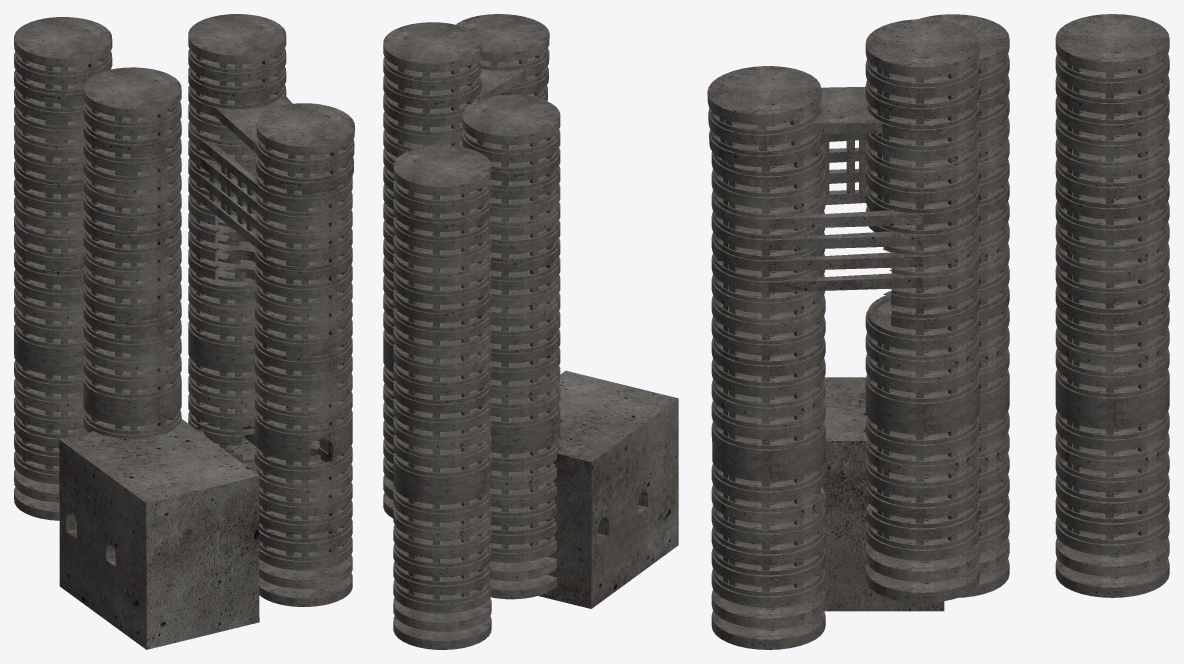
File: SM_Scene_A_Blockout11.fbx
3 views of the same model, side by side, from view 1: azimuth 30°, elevation 25°; view 2: azimuth 150°, elevation 25°; view 3: azimuth 270°, elevation 25° (orthographic). The views are drawn at different scales.
Visible parts, largest first — view 1: SM_Scene_A_Blockout11; view 2: SM_Scene_A_Blockout11; view 3: SM_Scene_A_Blockout11.
Boxes of the visible parts, x1,y1,x2,y2 form: SM_Scene_A_Blockout11: [14, 14, 354, 649]; SM_Scene_A_Blockout11: [383, 14, 678, 649]; SM_Scene_A_Blockout11: [707, 14, 1169, 649].
Size of the model in its own units: 7487 by 17516 by 12240.
